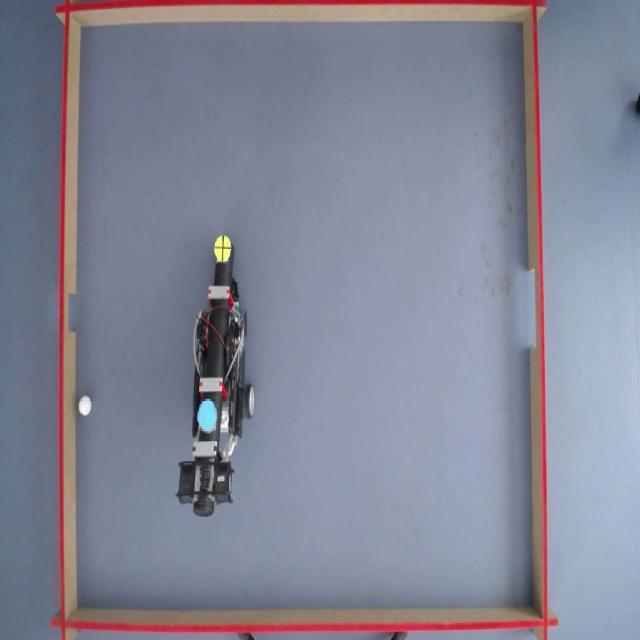robot: (183, 233, 258, 525)
robot-front: (214, 234, 232, 263)
robot-rear: (198, 398, 217, 434)
white: (79, 396, 93, 417)
